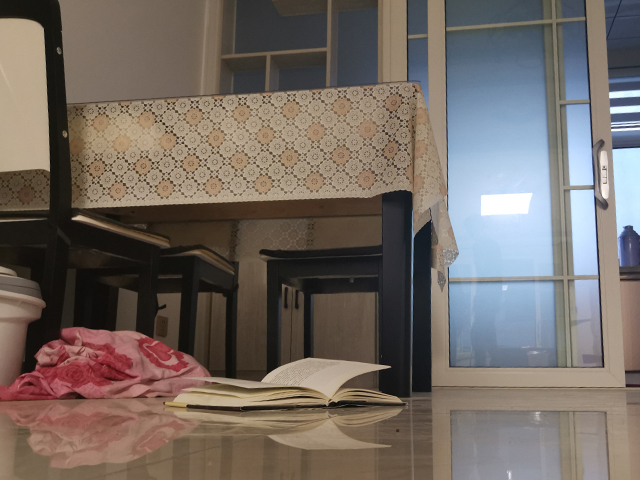book: (157, 356, 408, 413)
stool: (1, 2, 173, 367), (253, 247, 386, 388)
table: (64, 79, 435, 401)
